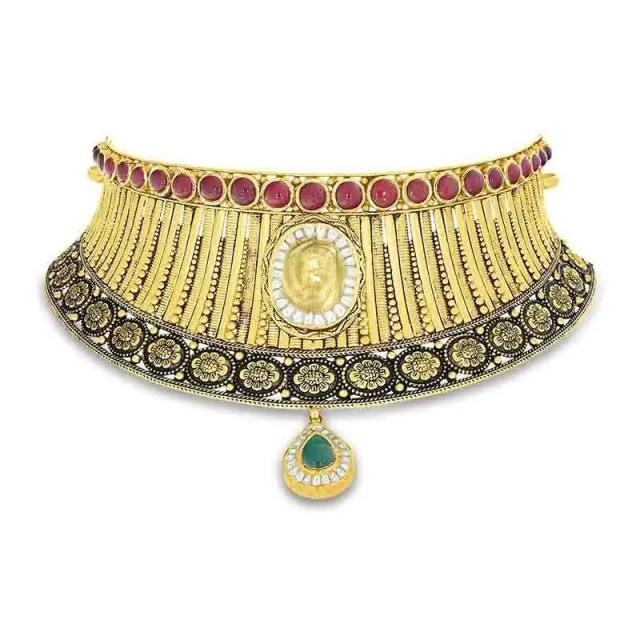missing gem: (281, 238, 345, 313)
